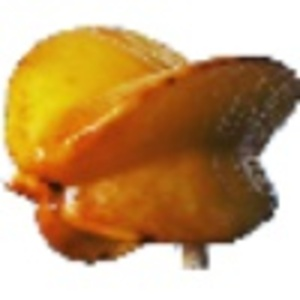carambola: (1, 23, 300, 272)
